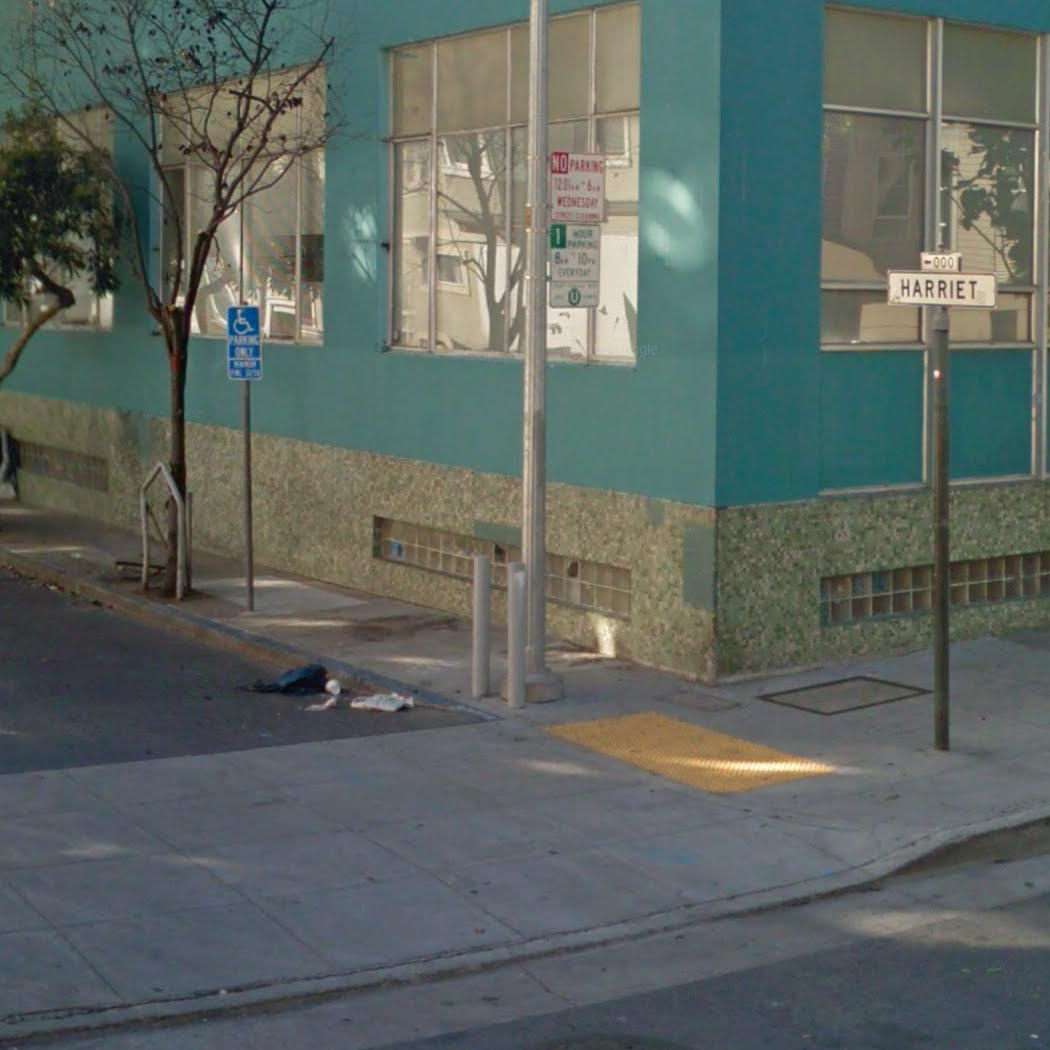1 Hour Parking: (545, 221, 603, 308)
No Parking: (546, 147, 608, 225)
